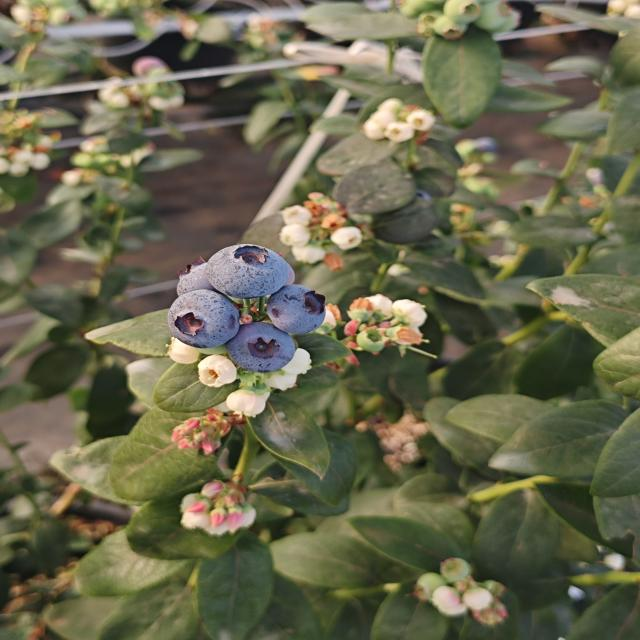ripe: (204, 242, 296, 300), (165, 289, 241, 350), (224, 321, 298, 375), (264, 282, 330, 335), (169, 259, 248, 303)
